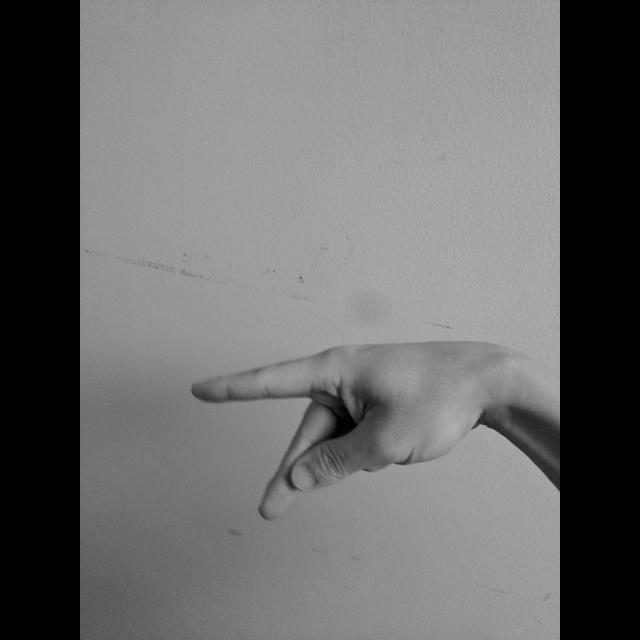P: (187, 336, 509, 524)
